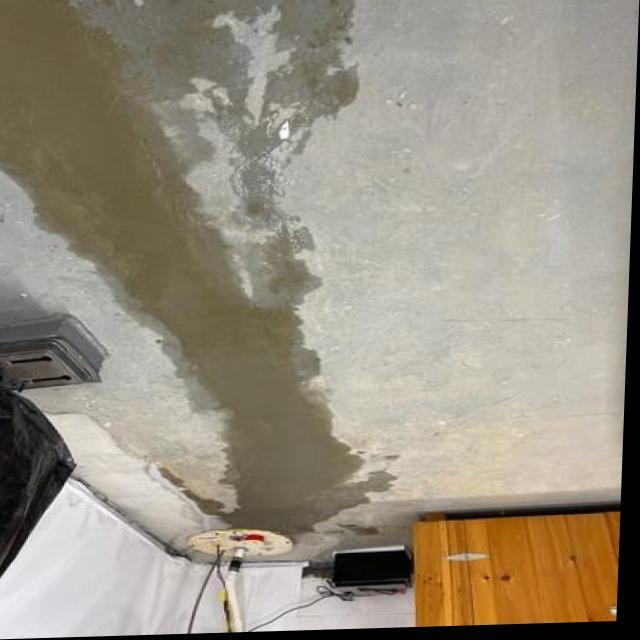water accumulation: (0, 0, 405, 540)
